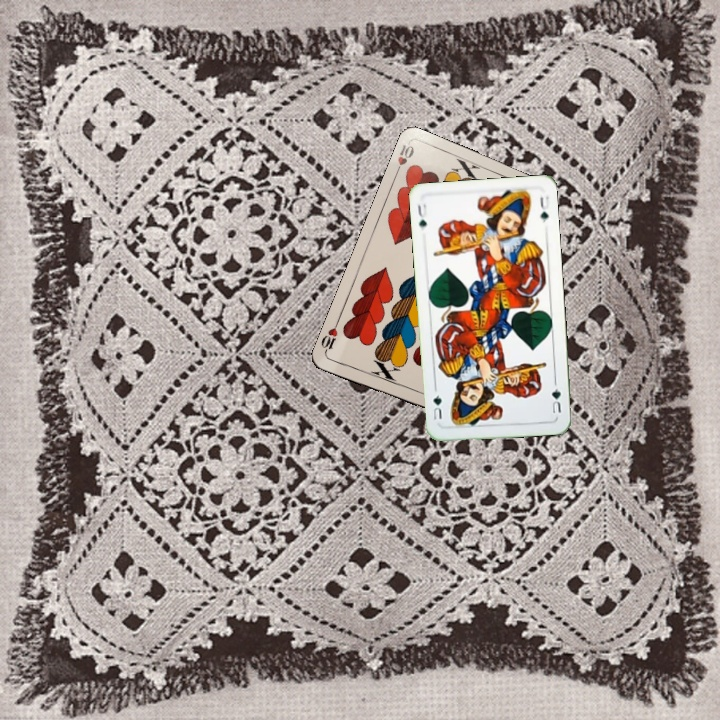GU: (547, 384, 564, 416), (414, 200, 430, 233)
H10: (391, 139, 417, 179)
